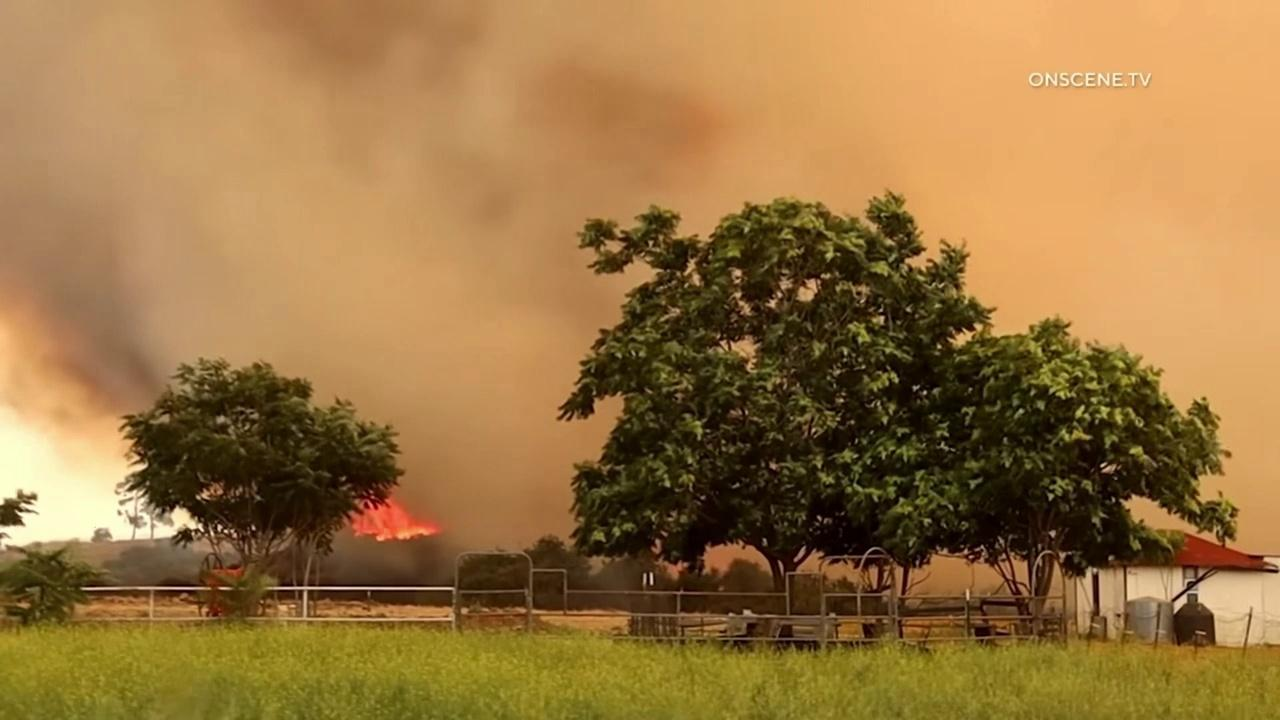fire: (351, 489, 441, 542)
smoke: (0, 0, 1280, 582)
